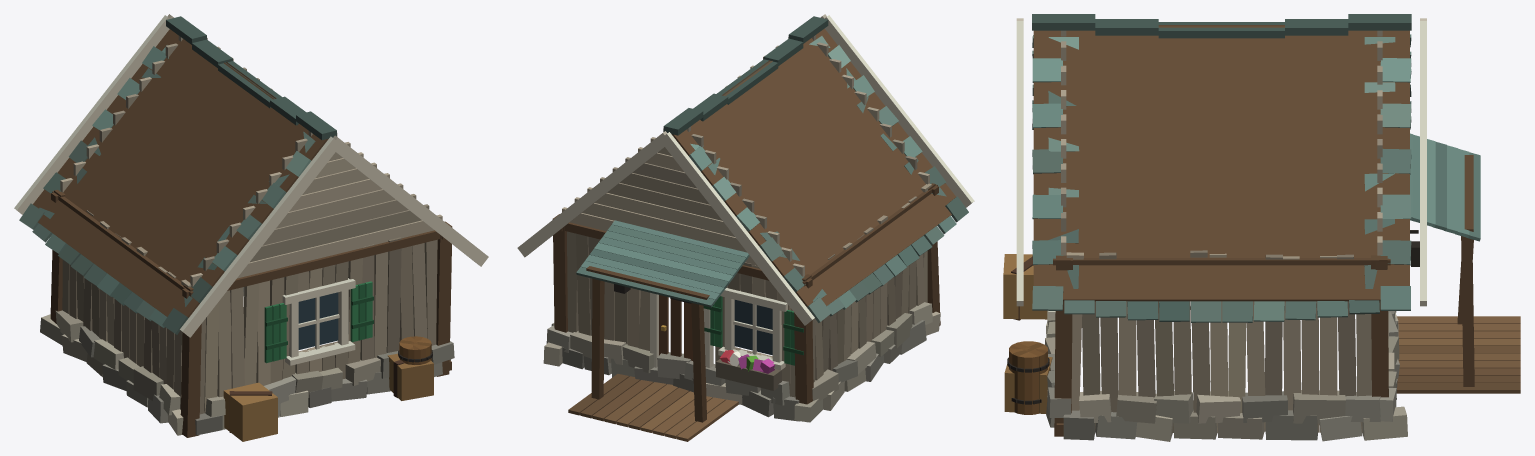
The model's file is cabana_3.glb.
3 renders of one model, left to right at view 1: azimuth 30°, elevation 25°; view 2: azimuth 150°, elevation 25°; view 3: azimuth 270°, elevation 25°, orthographic. The views are drawn at different scales.
Visible parts, largest first — view 1: Madeira, Pedra, Telhado, Vidro; view 2: Madeira, Telhado, Pedra, Vidro; view 3: Madeira, Telhado, Pedra, Ferro.
Part boxes in pixels (<box>): Madeira: <box>14,14,488,441</box>; Pedra: <box>40,287,454,435</box>; Telhado: <box>19,16,336,334</box>; Vidro: <box>298,292,338,349</box>; Madeira: <box>517,14,974,441</box>; Telhado: <box>576,16,968,322</box>; Pedra: <box>543,302,940,422</box>; Vidro: <box>734,300,772,355</box>; Madeira: <box>1003,18,1520,436</box>; Telhado: <box>1032,14,1480,322</box>; Pedra: <box>1045,310,1407,441</box>; Ferro: <box>1007,230,1419,404</box>.
Bounding box in the file's own units: 6.22 × 5.4 × 7.36.
